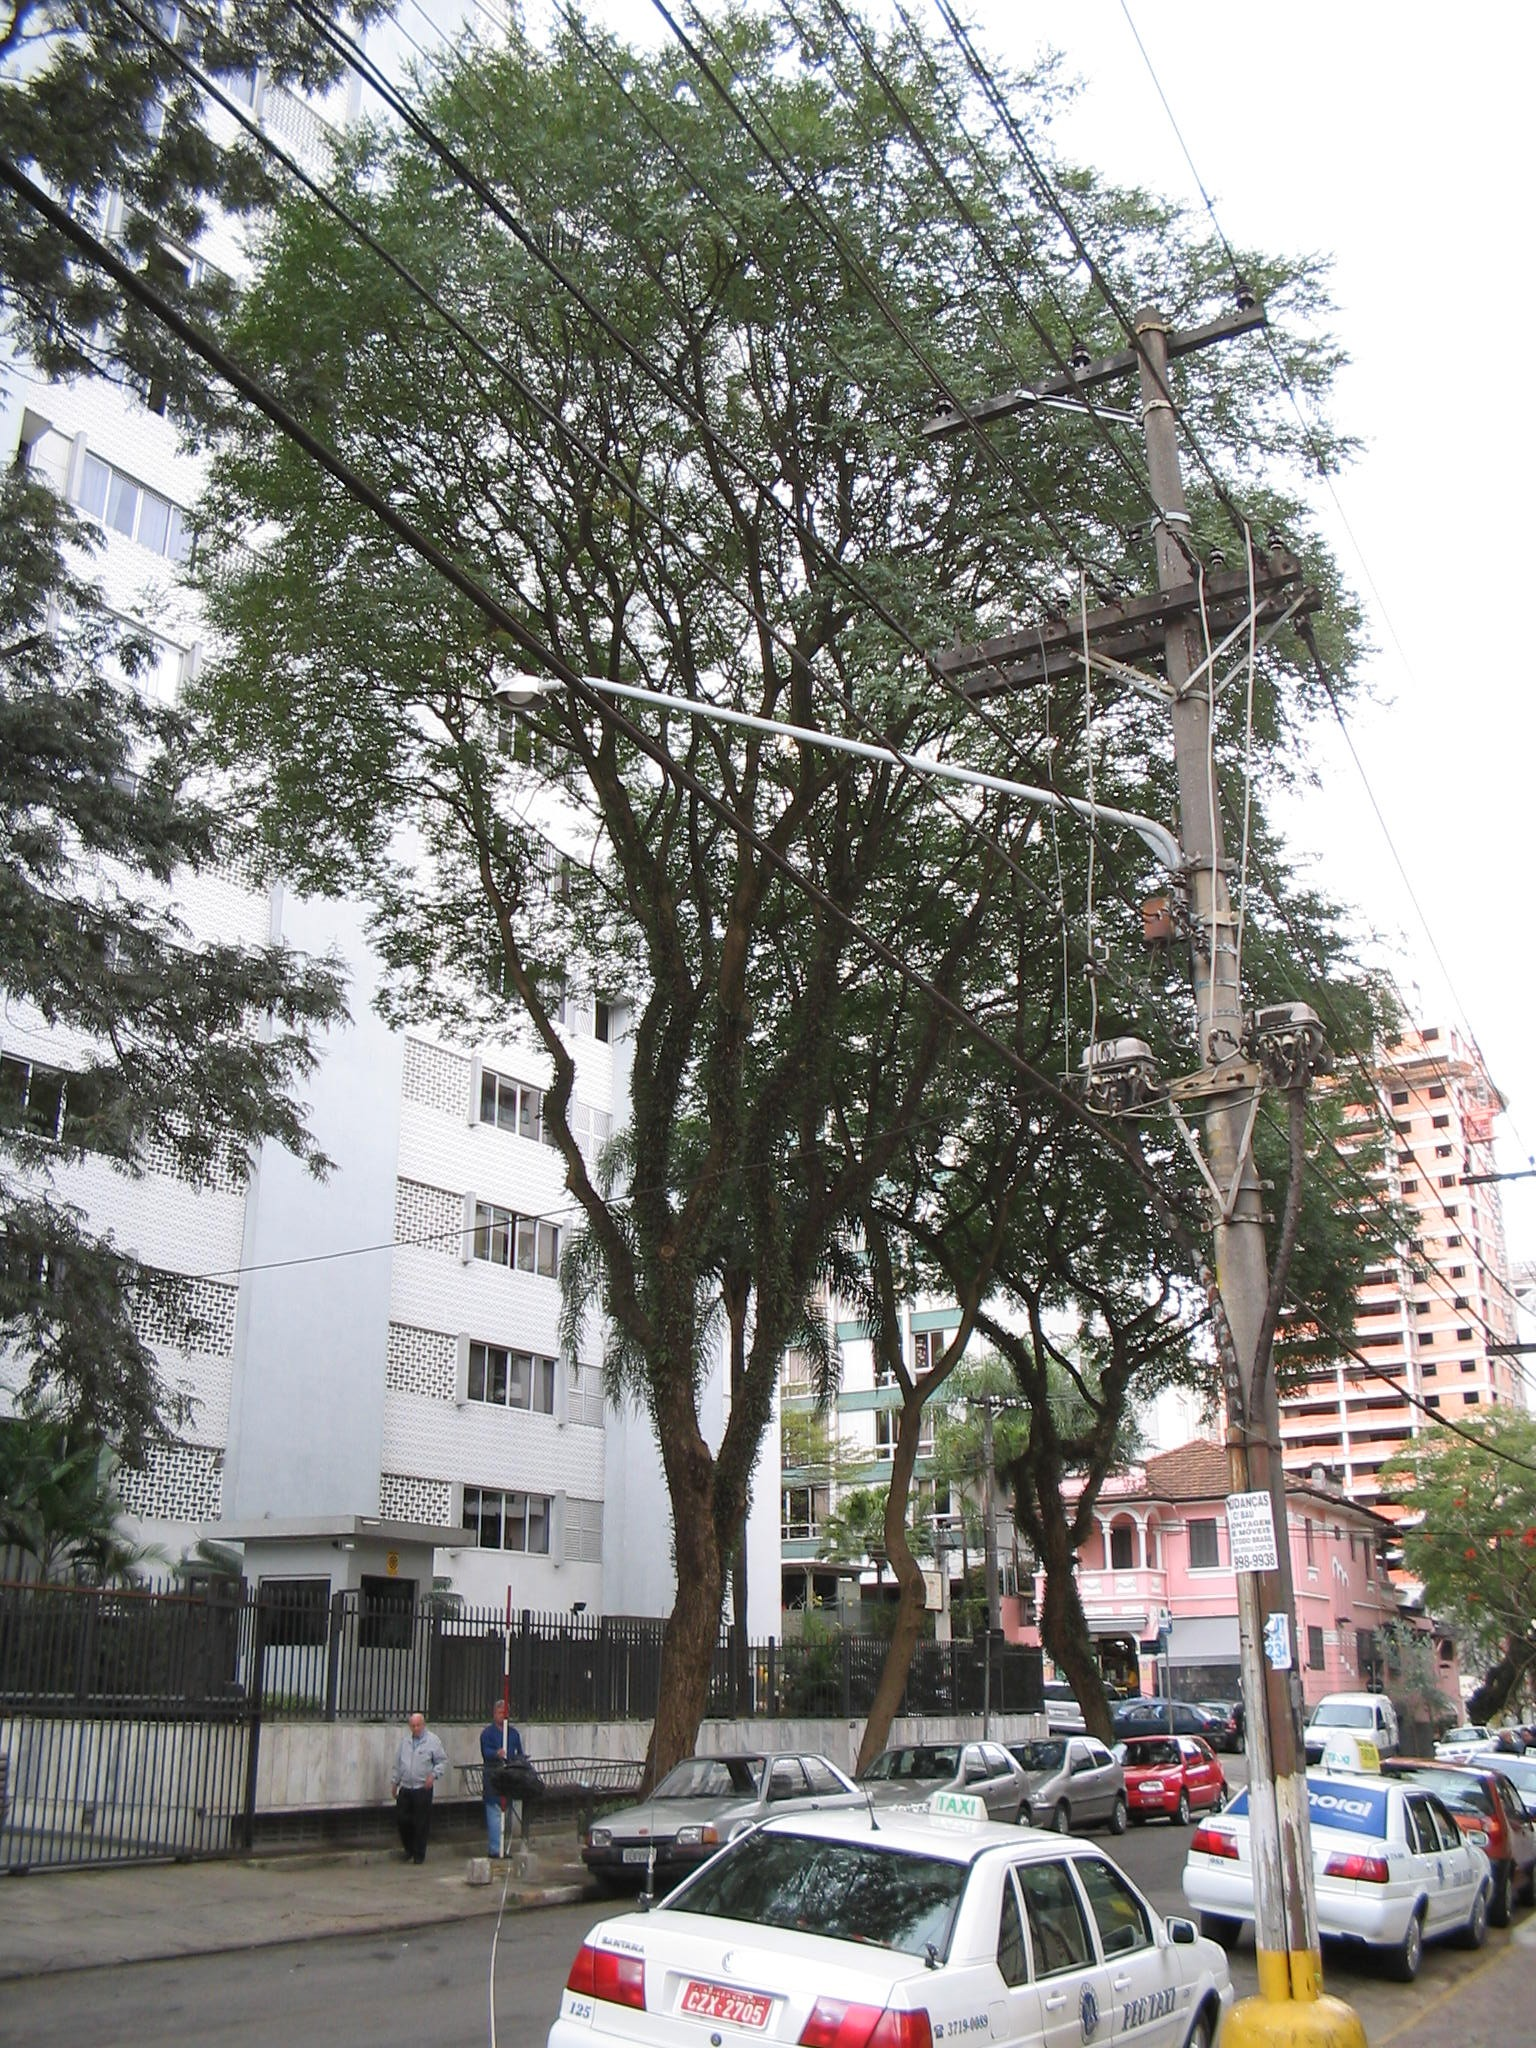crown: (181, 3, 1357, 1074)
stem: (610, 1534, 753, 1854), (1023, 1561, 1128, 1758)
stick: (484, 1582, 531, 1863)
tree: (174, 2, 1365, 1861), (910, 782, 1433, 1763)
